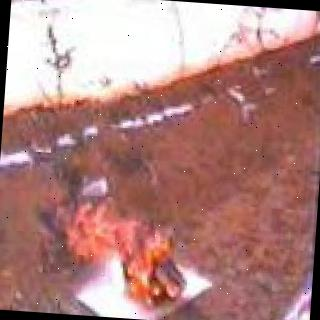fire: (58, 197, 199, 310)
